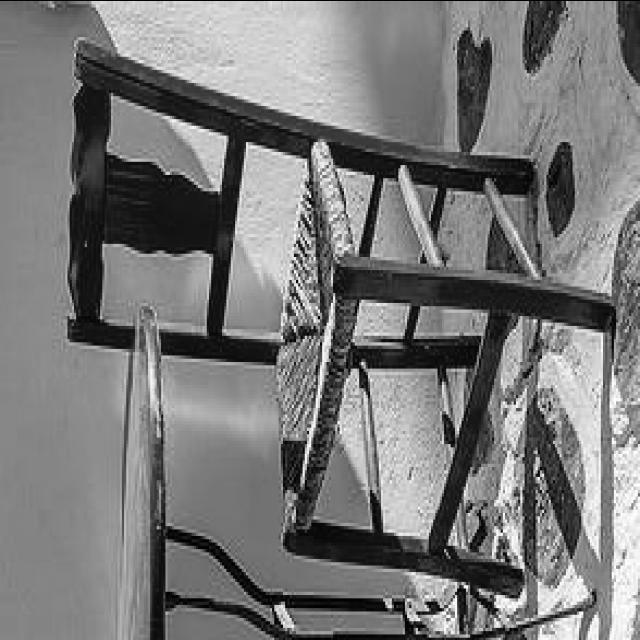chair: (66, 27, 614, 601)
